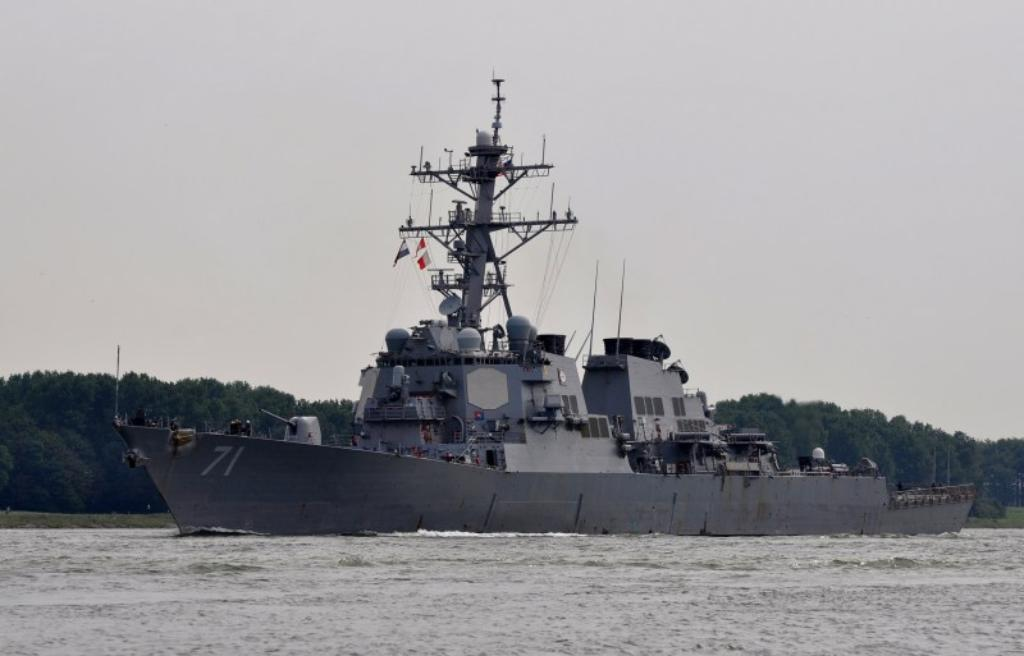Warship: (104, 74, 978, 544)
